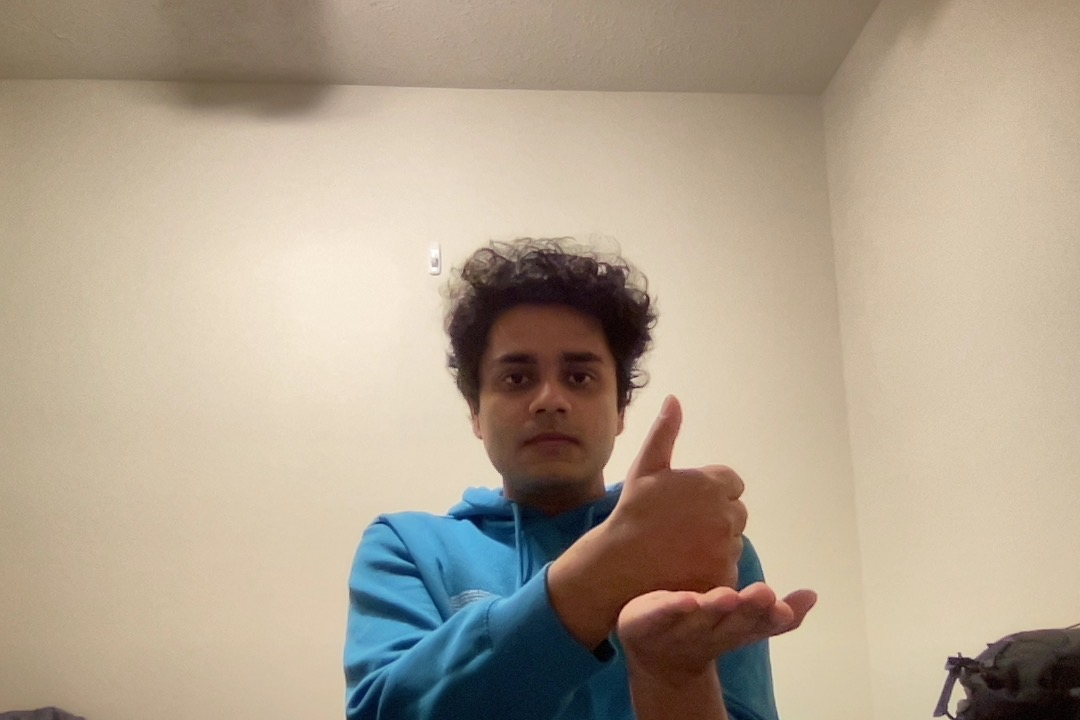Help: (581, 387, 863, 678)
